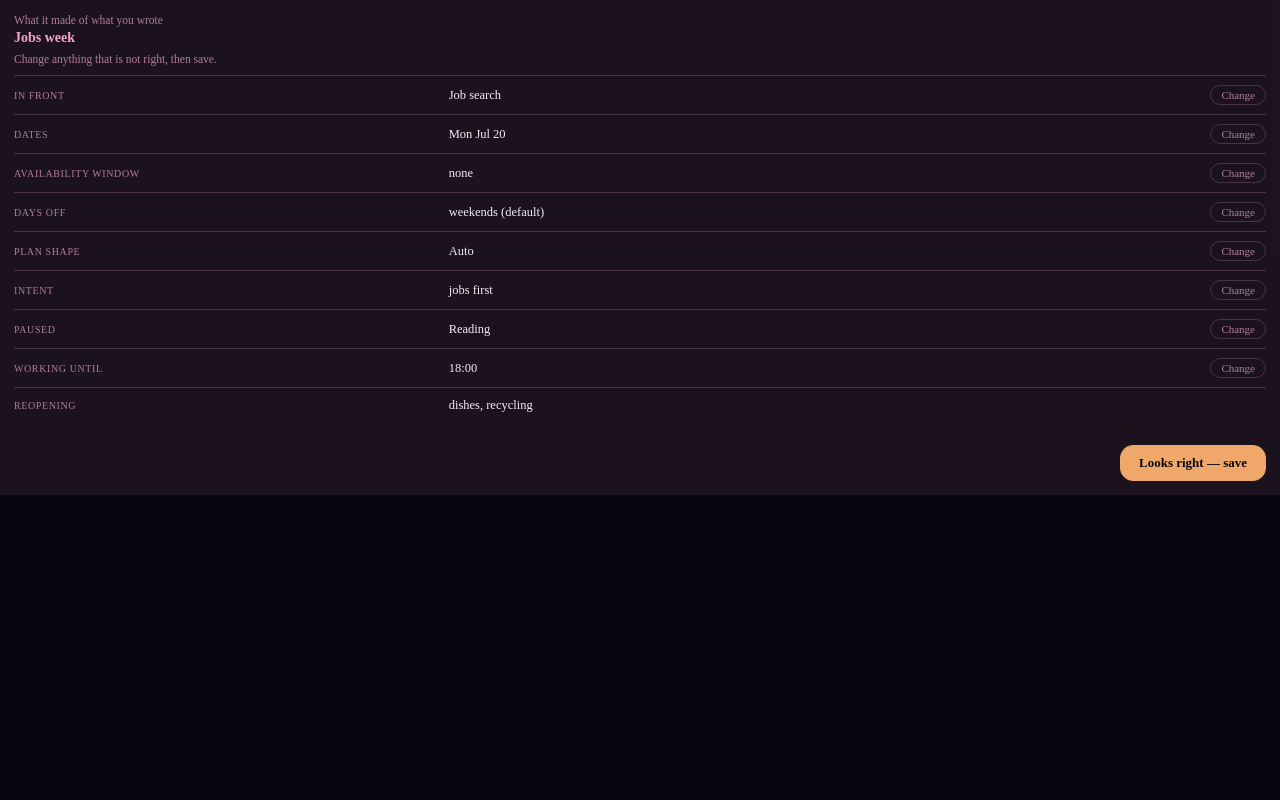
it: each item opens its own editor — not a text box for everything › opens the DATE controls for the dates item
Expected: the text "Mon Jul 20" is shown, [449, 127, 506, 141]
Click the button with aria-label "change Dates" at [1238, 134], box [1210, 124, 1266, 144]
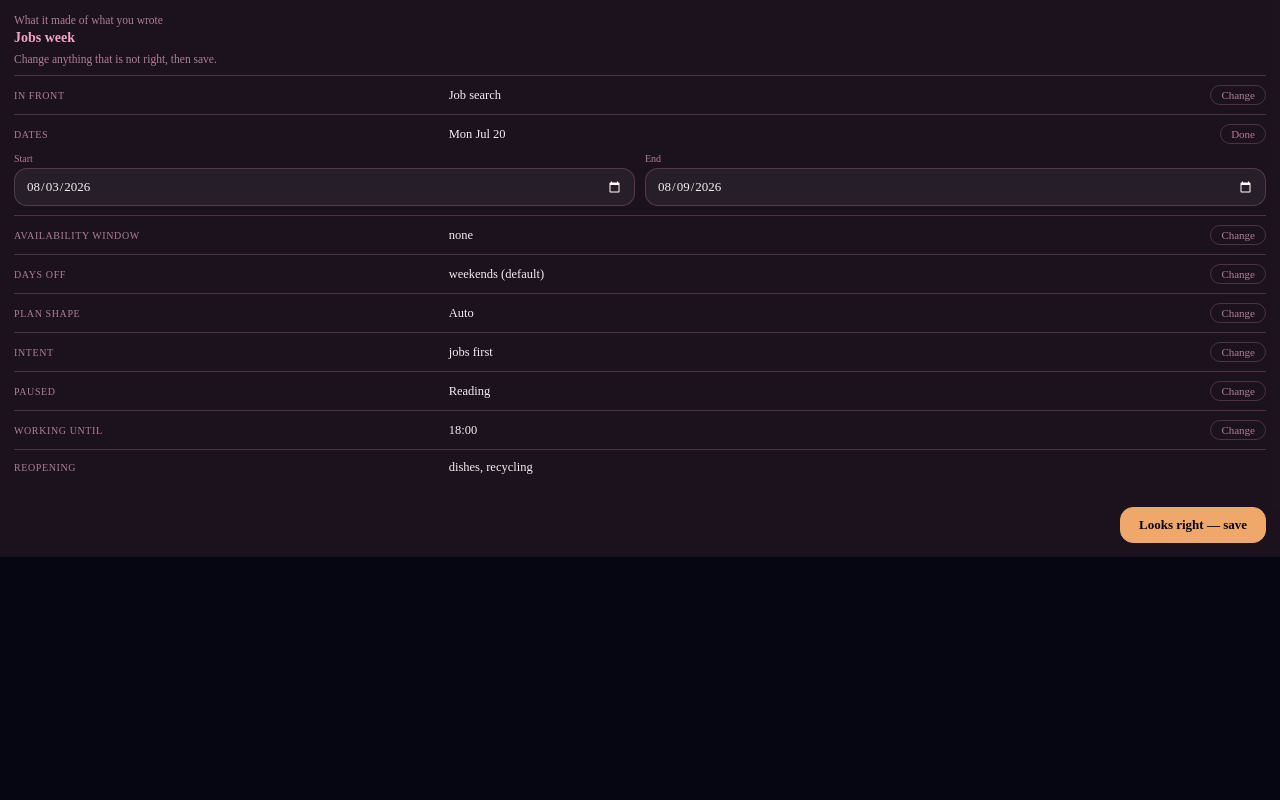
Expected: the text "Start" is shown, [14, 153, 33, 164]
Expected: the text "End" is shown, [645, 153, 661, 164]
